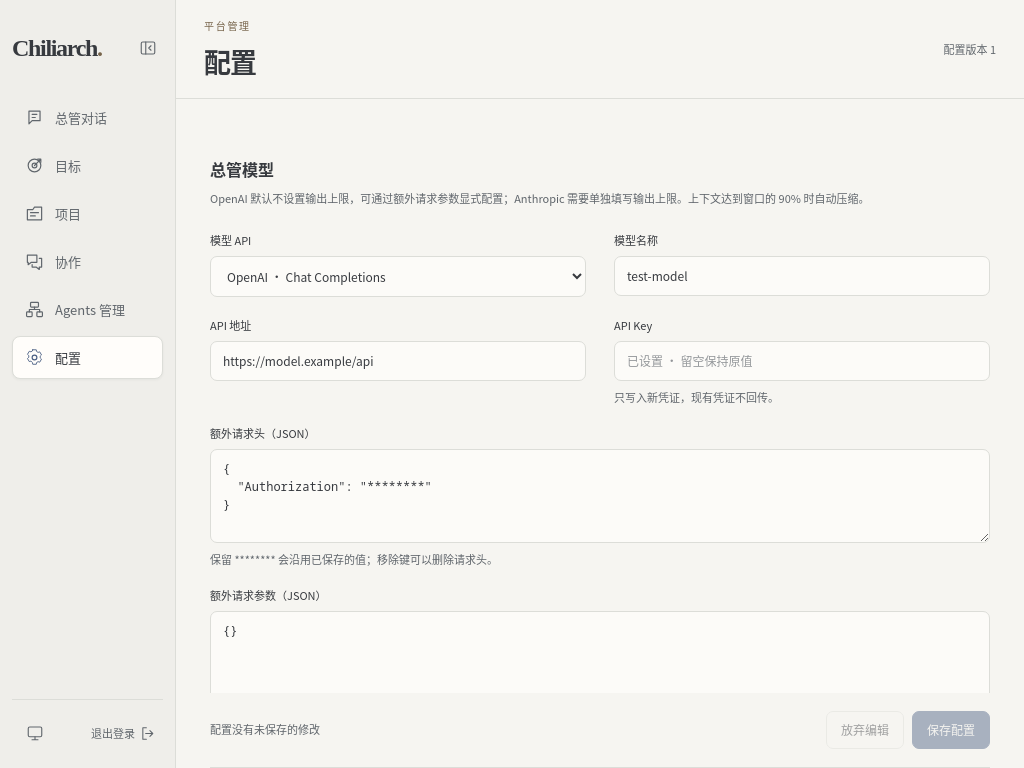
Scenario: 通过应用导航从配置页进入和返回总管时恢复同一会话
The image size is (1024, 768).
Click the button "总管对话" at [88, 118], box [12, 96, 163, 139]
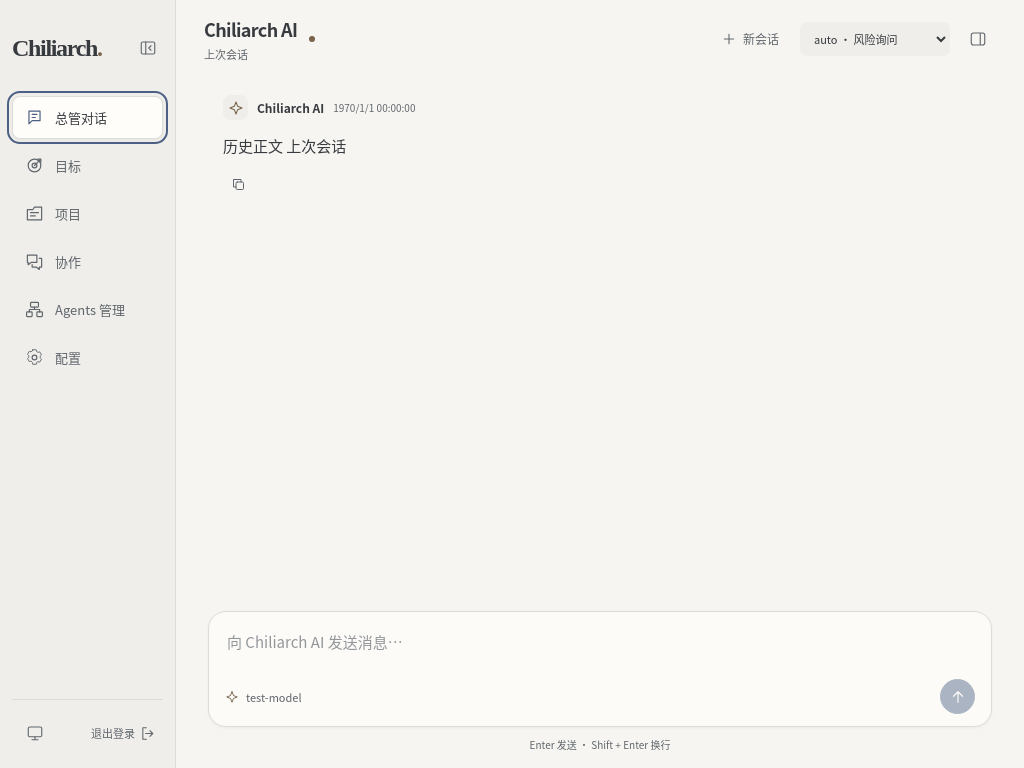
Check: the text "上次会话" is shown, box [204, 46, 248, 62]
Click the button "配置" at [88, 358], box [12, 336, 163, 379]
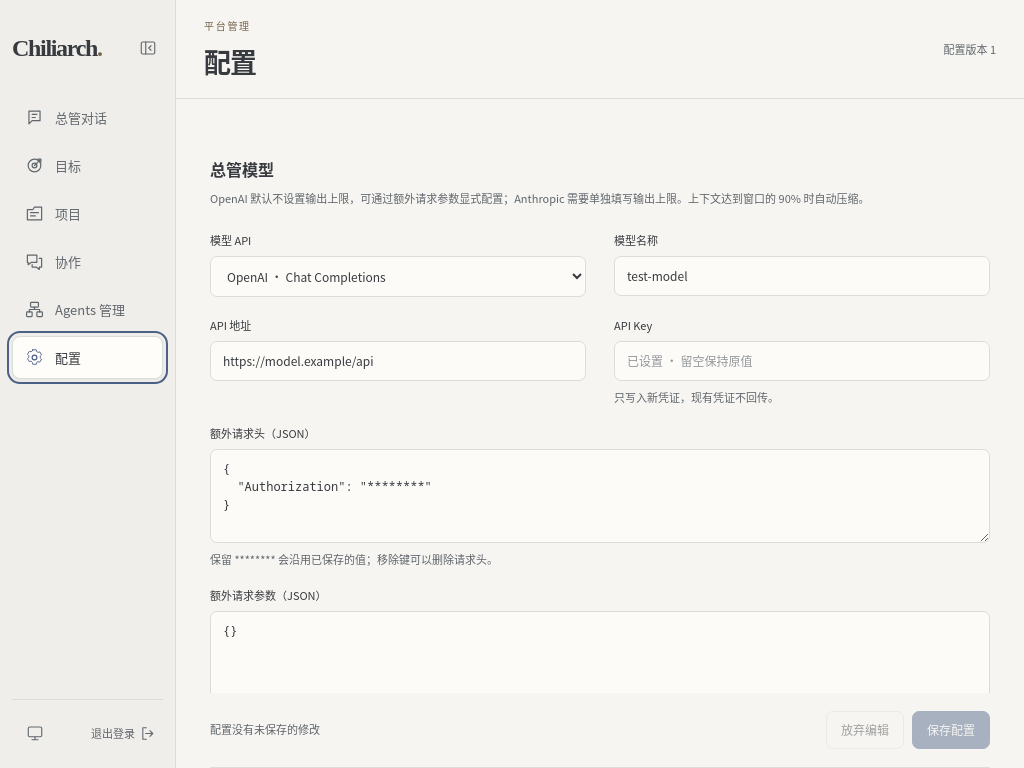
Check: the heading "配置" is shown, box [204, 42, 256, 81]
Click the button "总管对话" at [88, 118], box [12, 96, 163, 139]
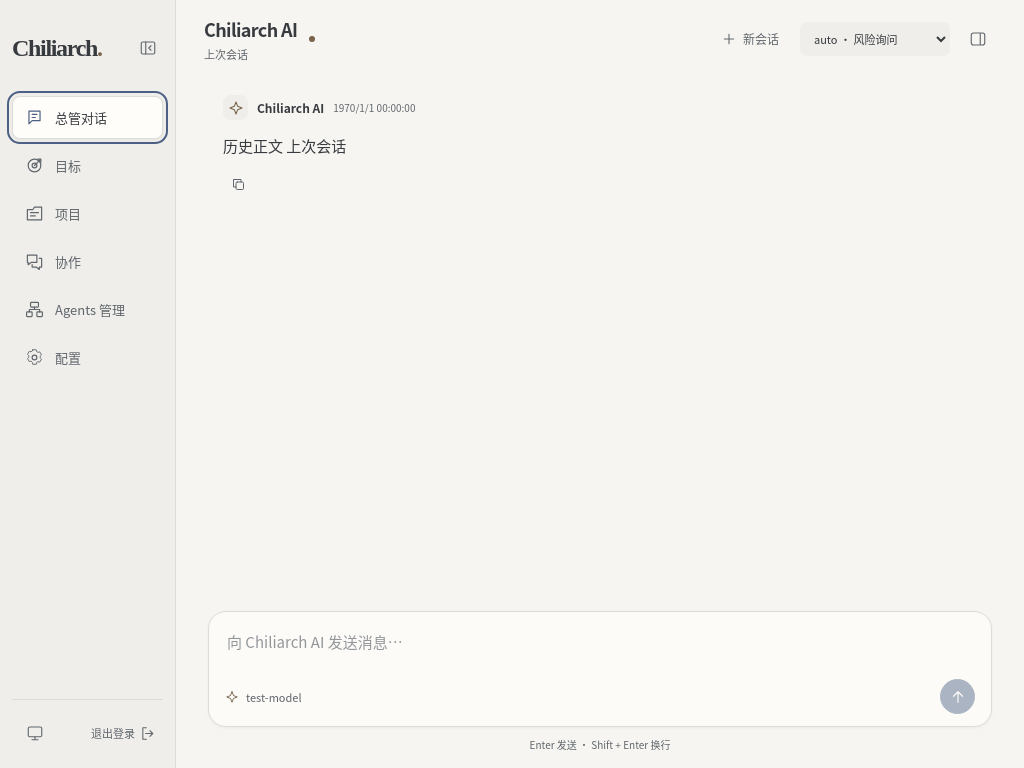
Check: the text "上次会话" is shown, box [204, 46, 248, 62]
